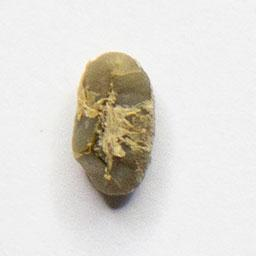peaberry: (68, 47, 160, 200)
